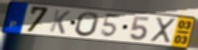5: (99, 12, 124, 40), (129, 15, 152, 41)
7: (26, 5, 51, 33)
K: (48, 8, 72, 35)
O: (74, 11, 101, 38)
X: (149, 16, 177, 44)
